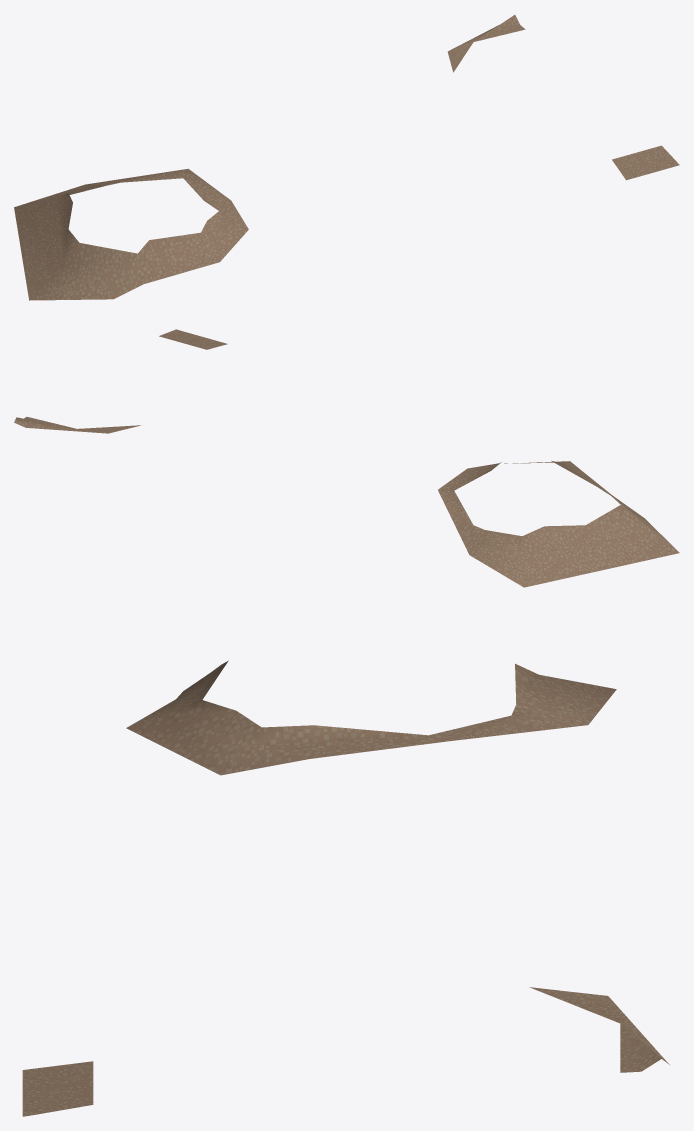
File: kd_stage_135fe0_0_16_bounded.glb
3 views of the same model, one above another, from view 1: azimuth 30°, elevation 25°; view 2: azimuth 150°, elevation 25°; view 3: azimuth 270°, elevation 25° (orthographic). The views are drawn at different scales.
Parts seen in each view (by area): view 1: kd_stage_135fe0_0_16_bounded; view 2: kd_stage_135fe0_0_16_bounded; view 3: kd_stage_135fe0_0_16_bounded.
Boxes of the visible parts, <box> form: kd_stage_135fe0_0_16_bounded: <box>14,15,679,300</box>; kd_stage_135fe0_0_16_bounded: <box>14,329,679,587</box>; kd_stage_135fe0_0_16_bounded: <box>22,660,669,1116</box>.
Size of the model in its own units: 46.11 by 5.29 by 22.84.
1 material, 1 textured.
